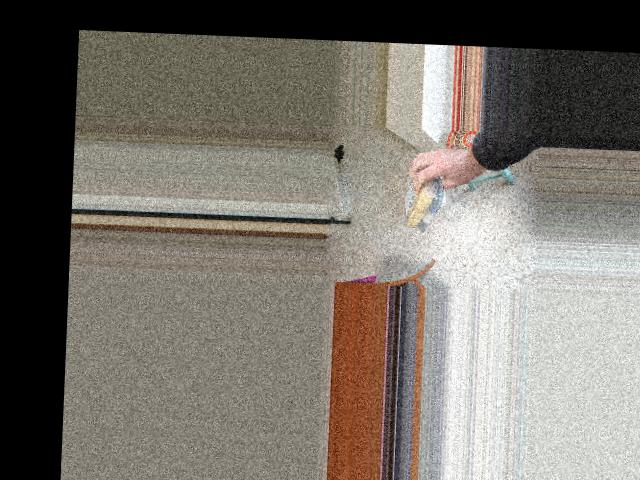cheese: (402, 165, 438, 233)
